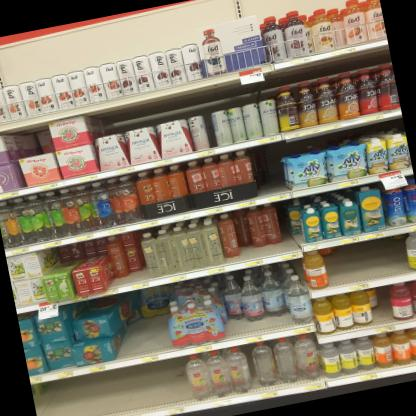empty_space: (117, 291, 175, 356), (142, 359, 189, 408), (99, 369, 141, 411), (57, 375, 98, 416), (343, 240, 380, 283), (376, 234, 408, 282), (237, 237, 290, 265), (250, 151, 283, 195), (30, 380, 61, 416), (106, 269, 146, 290), (324, 250, 346, 288)
